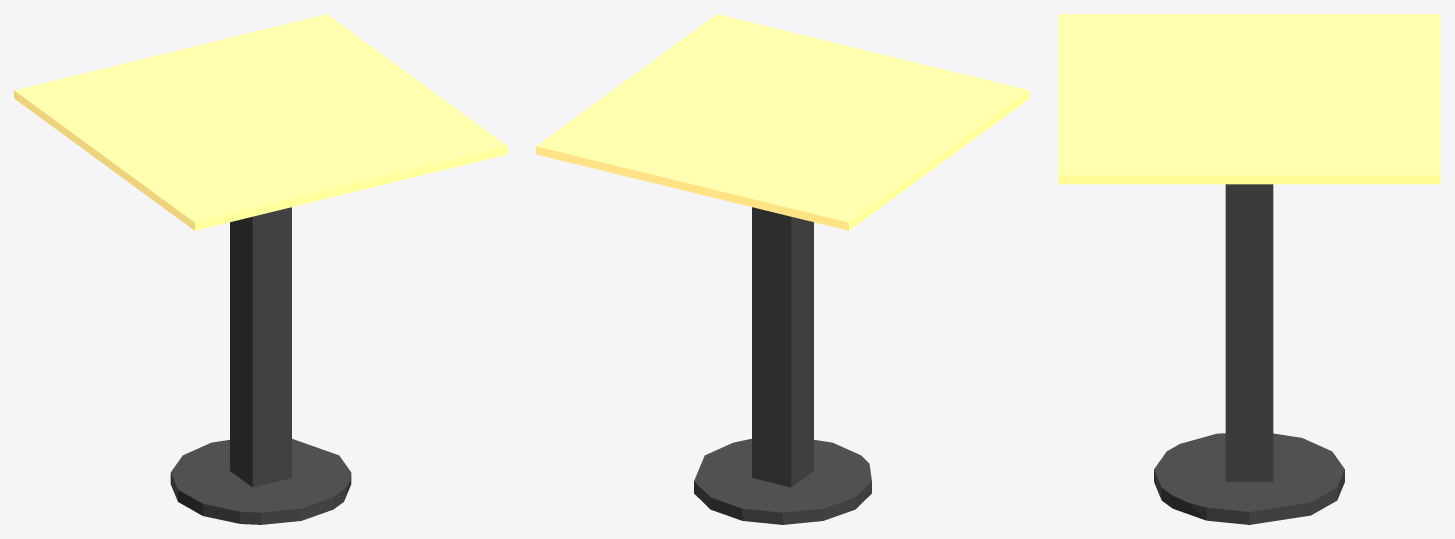
The picture shows the model from 3 angles, left to right: view 1: azimuth 30°, elevation 25°; view 2: azimuth 150°, elevation 25°; view 3: azimuth 270°, elevation 25°; orthographic projection. The views are drawn at different scales.
Parts seen in each view (by area): view 1: Table1; view 2: Table1; view 3: Table1.
Boxes of the visible parts, box(x1,y1,x2,y2) form: Table1: box(14, 14, 507, 524); Table1: box(536, 14, 1029, 524); Table1: box(1058, 14, 1440, 524).
Size of the model in its own units: 0.8 by 0.8 by 0.9.
